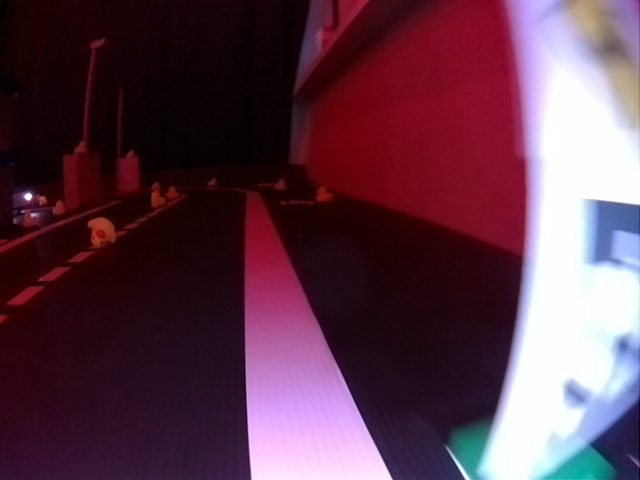Duckie: (87, 217, 116, 246), (22, 213, 36, 227), (316, 187, 332, 199), (53, 201, 65, 215), (152, 193, 164, 205), (75, 141, 87, 152), (167, 187, 178, 198), (275, 180, 285, 189), (208, 177, 217, 186), (126, 149, 135, 158), (152, 182, 160, 192)
QR code: (281, 200, 314, 208)
